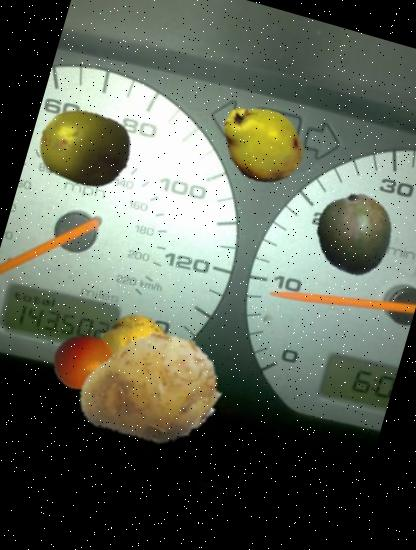Apple: (80, 303, 183, 406)
Grapefruit: (44, 324, 122, 402)
Mango: (302, 182, 407, 287)
Pomelo: (27, 90, 142, 204)
Potato: (60, 299, 238, 478)
Quince: (206, 87, 317, 198)
